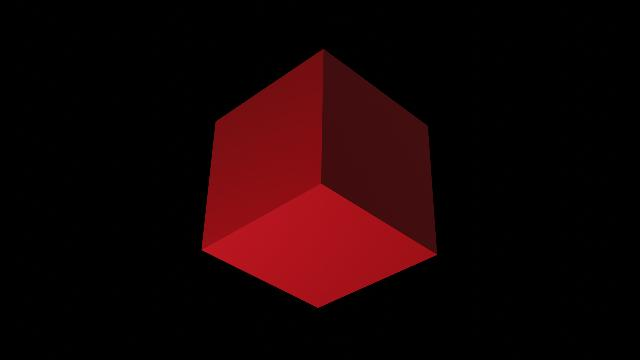Cube: (200, 47, 440, 312)
